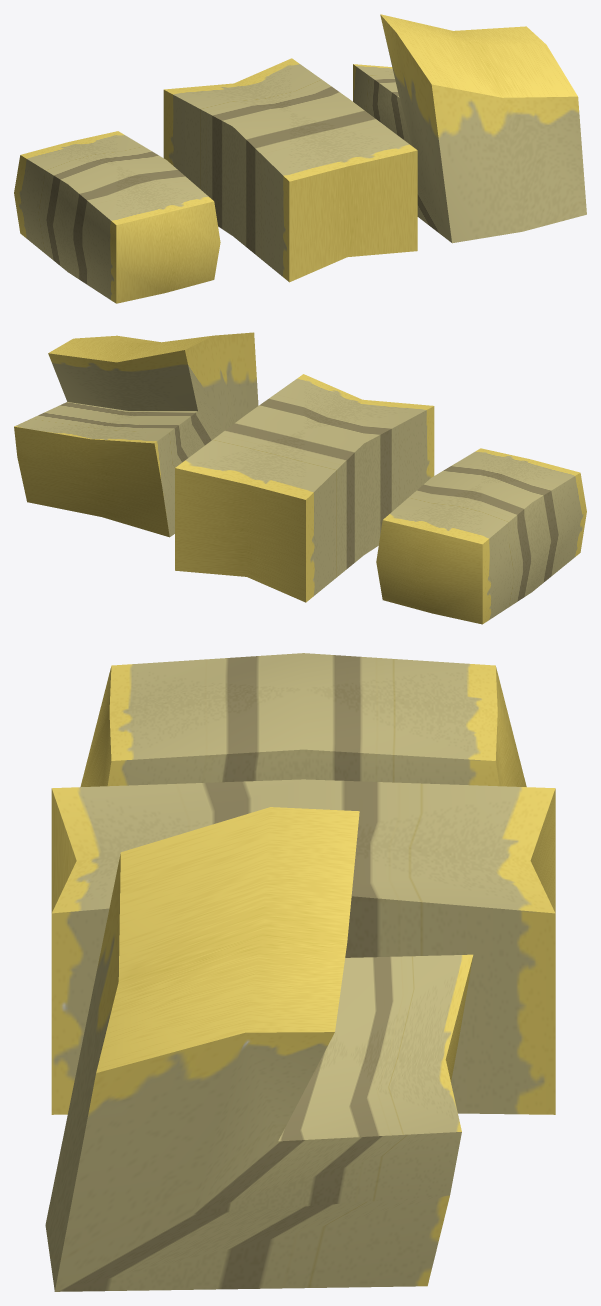
Rendered from saahay.dae.
The picture shows the model from 3 angles, top to bottom: view 1: azimuth 30°, elevation 25°; view 2: azimuth 150°, elevation 25°; view 3: azimuth 270°, elevation 25°; orthographic projection. The views are drawn at different scales.
Visible parts, largest first — view 1: HayBale2, HayBale3, HayBale1; view 2: HayBale2, HayBale3, HayBale1; view 3: HayBale3, HayBale2, HayBale1.
Part boxes in pixels (<box>): HayBale2: <box>163,58,417,282</box>; HayBale3: <box>353,14,586,243</box>; HayBale1: <box>14,131,220,303</box>; HayBale2: <box>175,374,434,602</box>; HayBale3: <box>14,332,258,537</box>; HayBale1: <box>376,448,586,624</box>; HayBale3: <box>45,807,473,1291</box>; HayBale2: <box>51,779,555,1114</box>; HayBale1: <box>80,653,526,787</box>.
Size of the model in its own units: 8.24 by 2.92 by 3.82.
